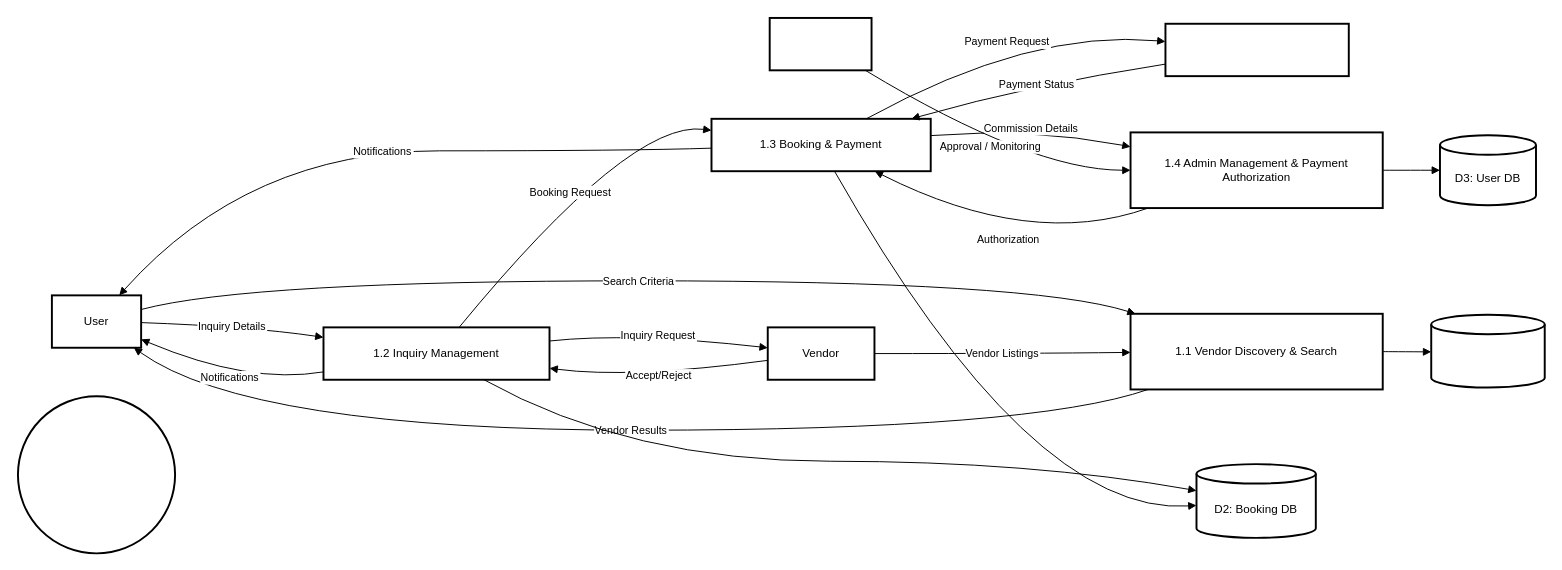
The diagram is 1562 pixels wide and 570 high, and some of its shapes have lost their labels. The shapes that lost their labels are listed below. From the top down, each one's box as (x1, y1, x2, y2) in pixels, then its label:
(768, 16, 872, 71): Admin
(1164, 22, 1349, 77): Payment Gateway
(1430, 313, 1545, 388): D1: Vendor DB
(16, 395, 176, 554): 0. WedCircle System
